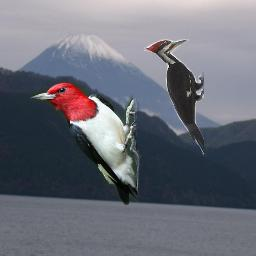Woodpecker: (27, 82, 144, 205), (144, 39, 204, 156)
